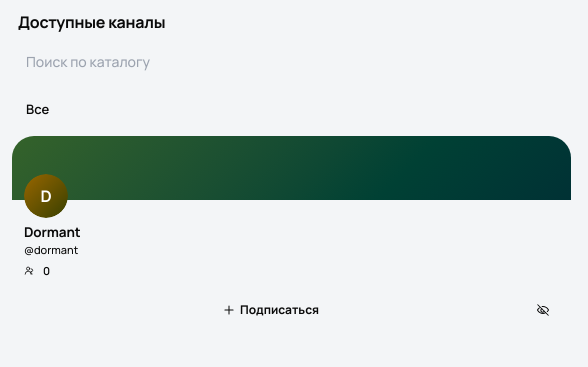
Test: ChannelCatalogSection › shows a localized error when the queued join fails
Step 1. Click the button "Подписаться" → (270, 310), box [22,294,519,326]
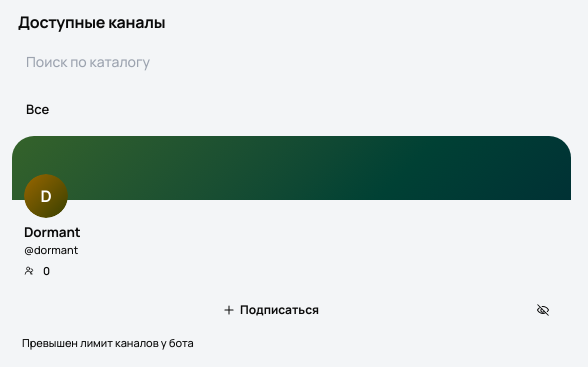
Check: the text "Превышен лимит каналов у бота" is shown, box [22,335,194,350]
